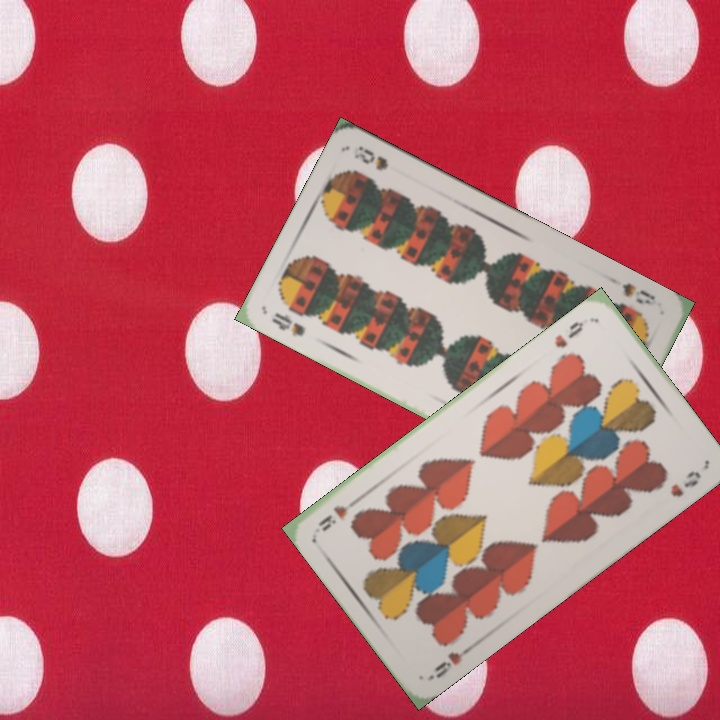H9: (425, 641, 476, 682), (550, 317, 587, 351)
S8: (617, 278, 665, 312), (267, 308, 308, 339)
